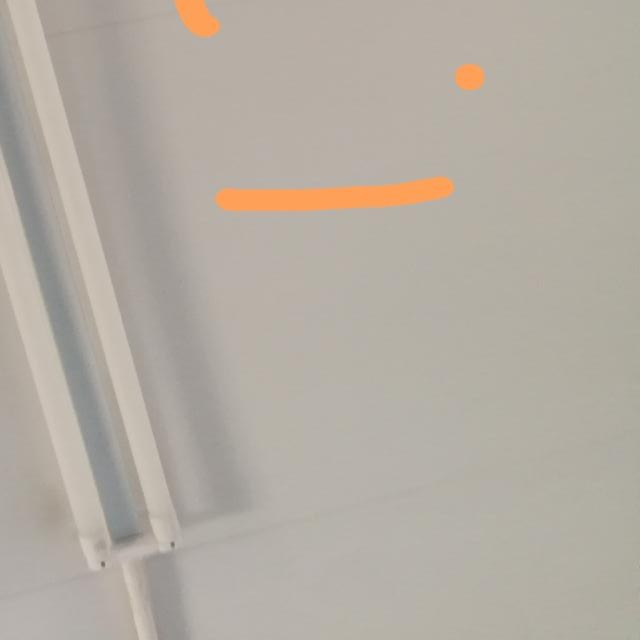fluorescent tube: (0, 0, 201, 581)
